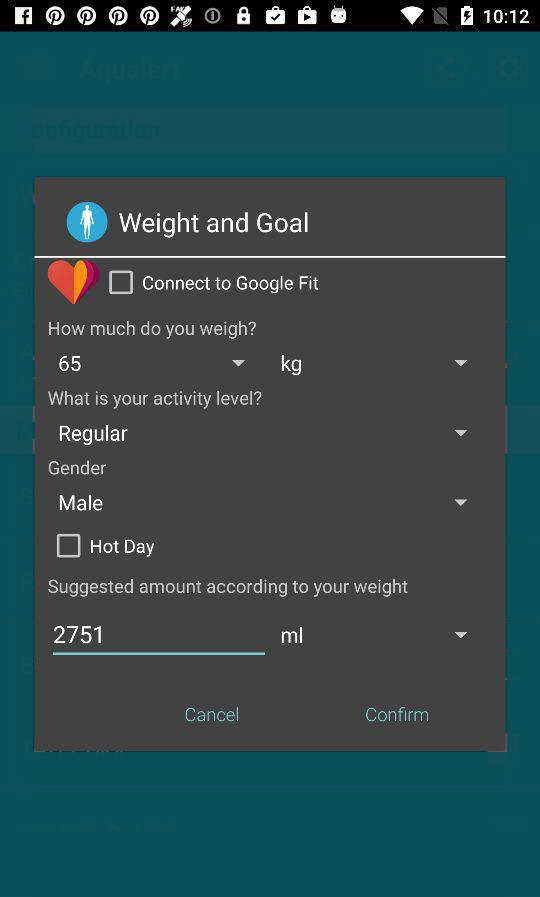CheckedTextView: (109, 271, 319, 295), (57, 534, 155, 559)
EditText: (53, 625, 267, 656)
Icon: (232, 360, 246, 368), (454, 499, 468, 507), (454, 631, 468, 639), (454, 360, 468, 367), (454, 430, 468, 437)
Image: (49, 260, 100, 305), (67, 202, 108, 243)
Modal: (36, 178, 507, 752)
Text: (48, 578, 410, 598), (47, 387, 263, 411), (118, 213, 313, 239), (49, 322, 257, 339), (143, 275, 319, 295), (60, 426, 129, 446), (91, 540, 155, 558), (367, 707, 429, 723), (53, 626, 103, 645), (49, 460, 107, 476), (186, 707, 239, 723), (61, 495, 103, 511), (282, 354, 302, 376), (60, 356, 82, 373), (282, 627, 303, 644)
UpperTaskBar: (1, 1, 540, 33)
